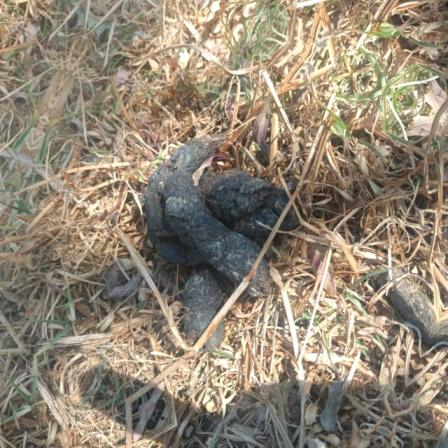dog-poop: (130, 139, 284, 336)
